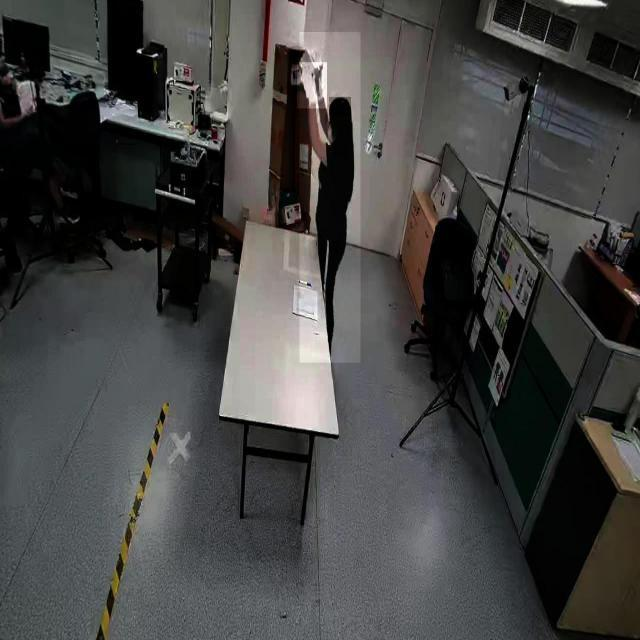gloves: (296, 62, 328, 110)
